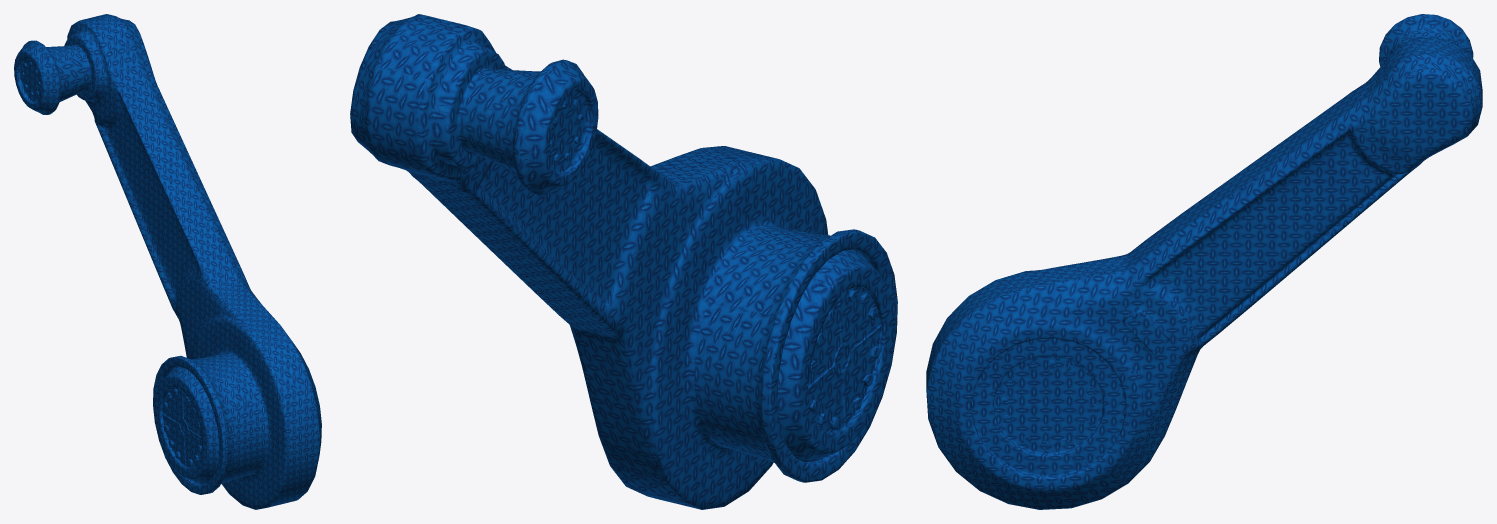
Rendered from Parte1_Brazo.obj.
The picture shows the model from 3 angles, left to right: view 1: azimuth 30°, elevation 25°; view 2: azimuth 150°, elevation 25°; view 3: azimuth 270°, elevation 25°; orthographic projection. The views are drawn at different scales.
Visible parts, largest first — view 1: Parte1_Brazo; view 2: Parte1_Brazo; view 3: Parte1_Brazo.
Part boxes in pixels (left/top/right/bottom): Parte1_Brazo: left=14, top=14, right=321, bottom=509; Parte1_Brazo: left=350, top=14, right=897, bottom=509; Parte1_Brazo: left=926, top=14, right=1482, bottom=509.
Bounding box in the file's own units: 0.1532 × 0.5093 × 0.5639.
1 material, 1 textured.
